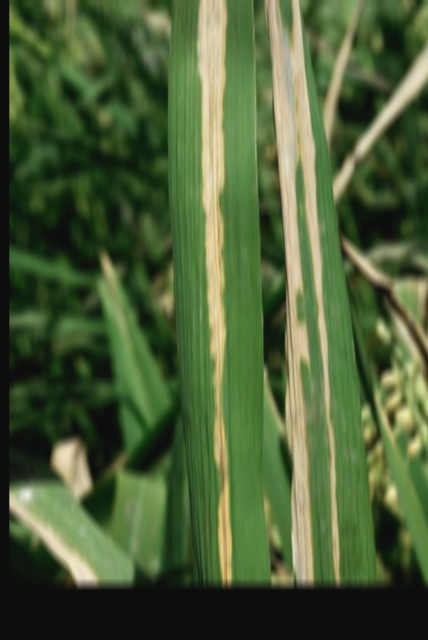Leaf_Blast: (262, 0, 356, 578), (192, 0, 247, 579)
